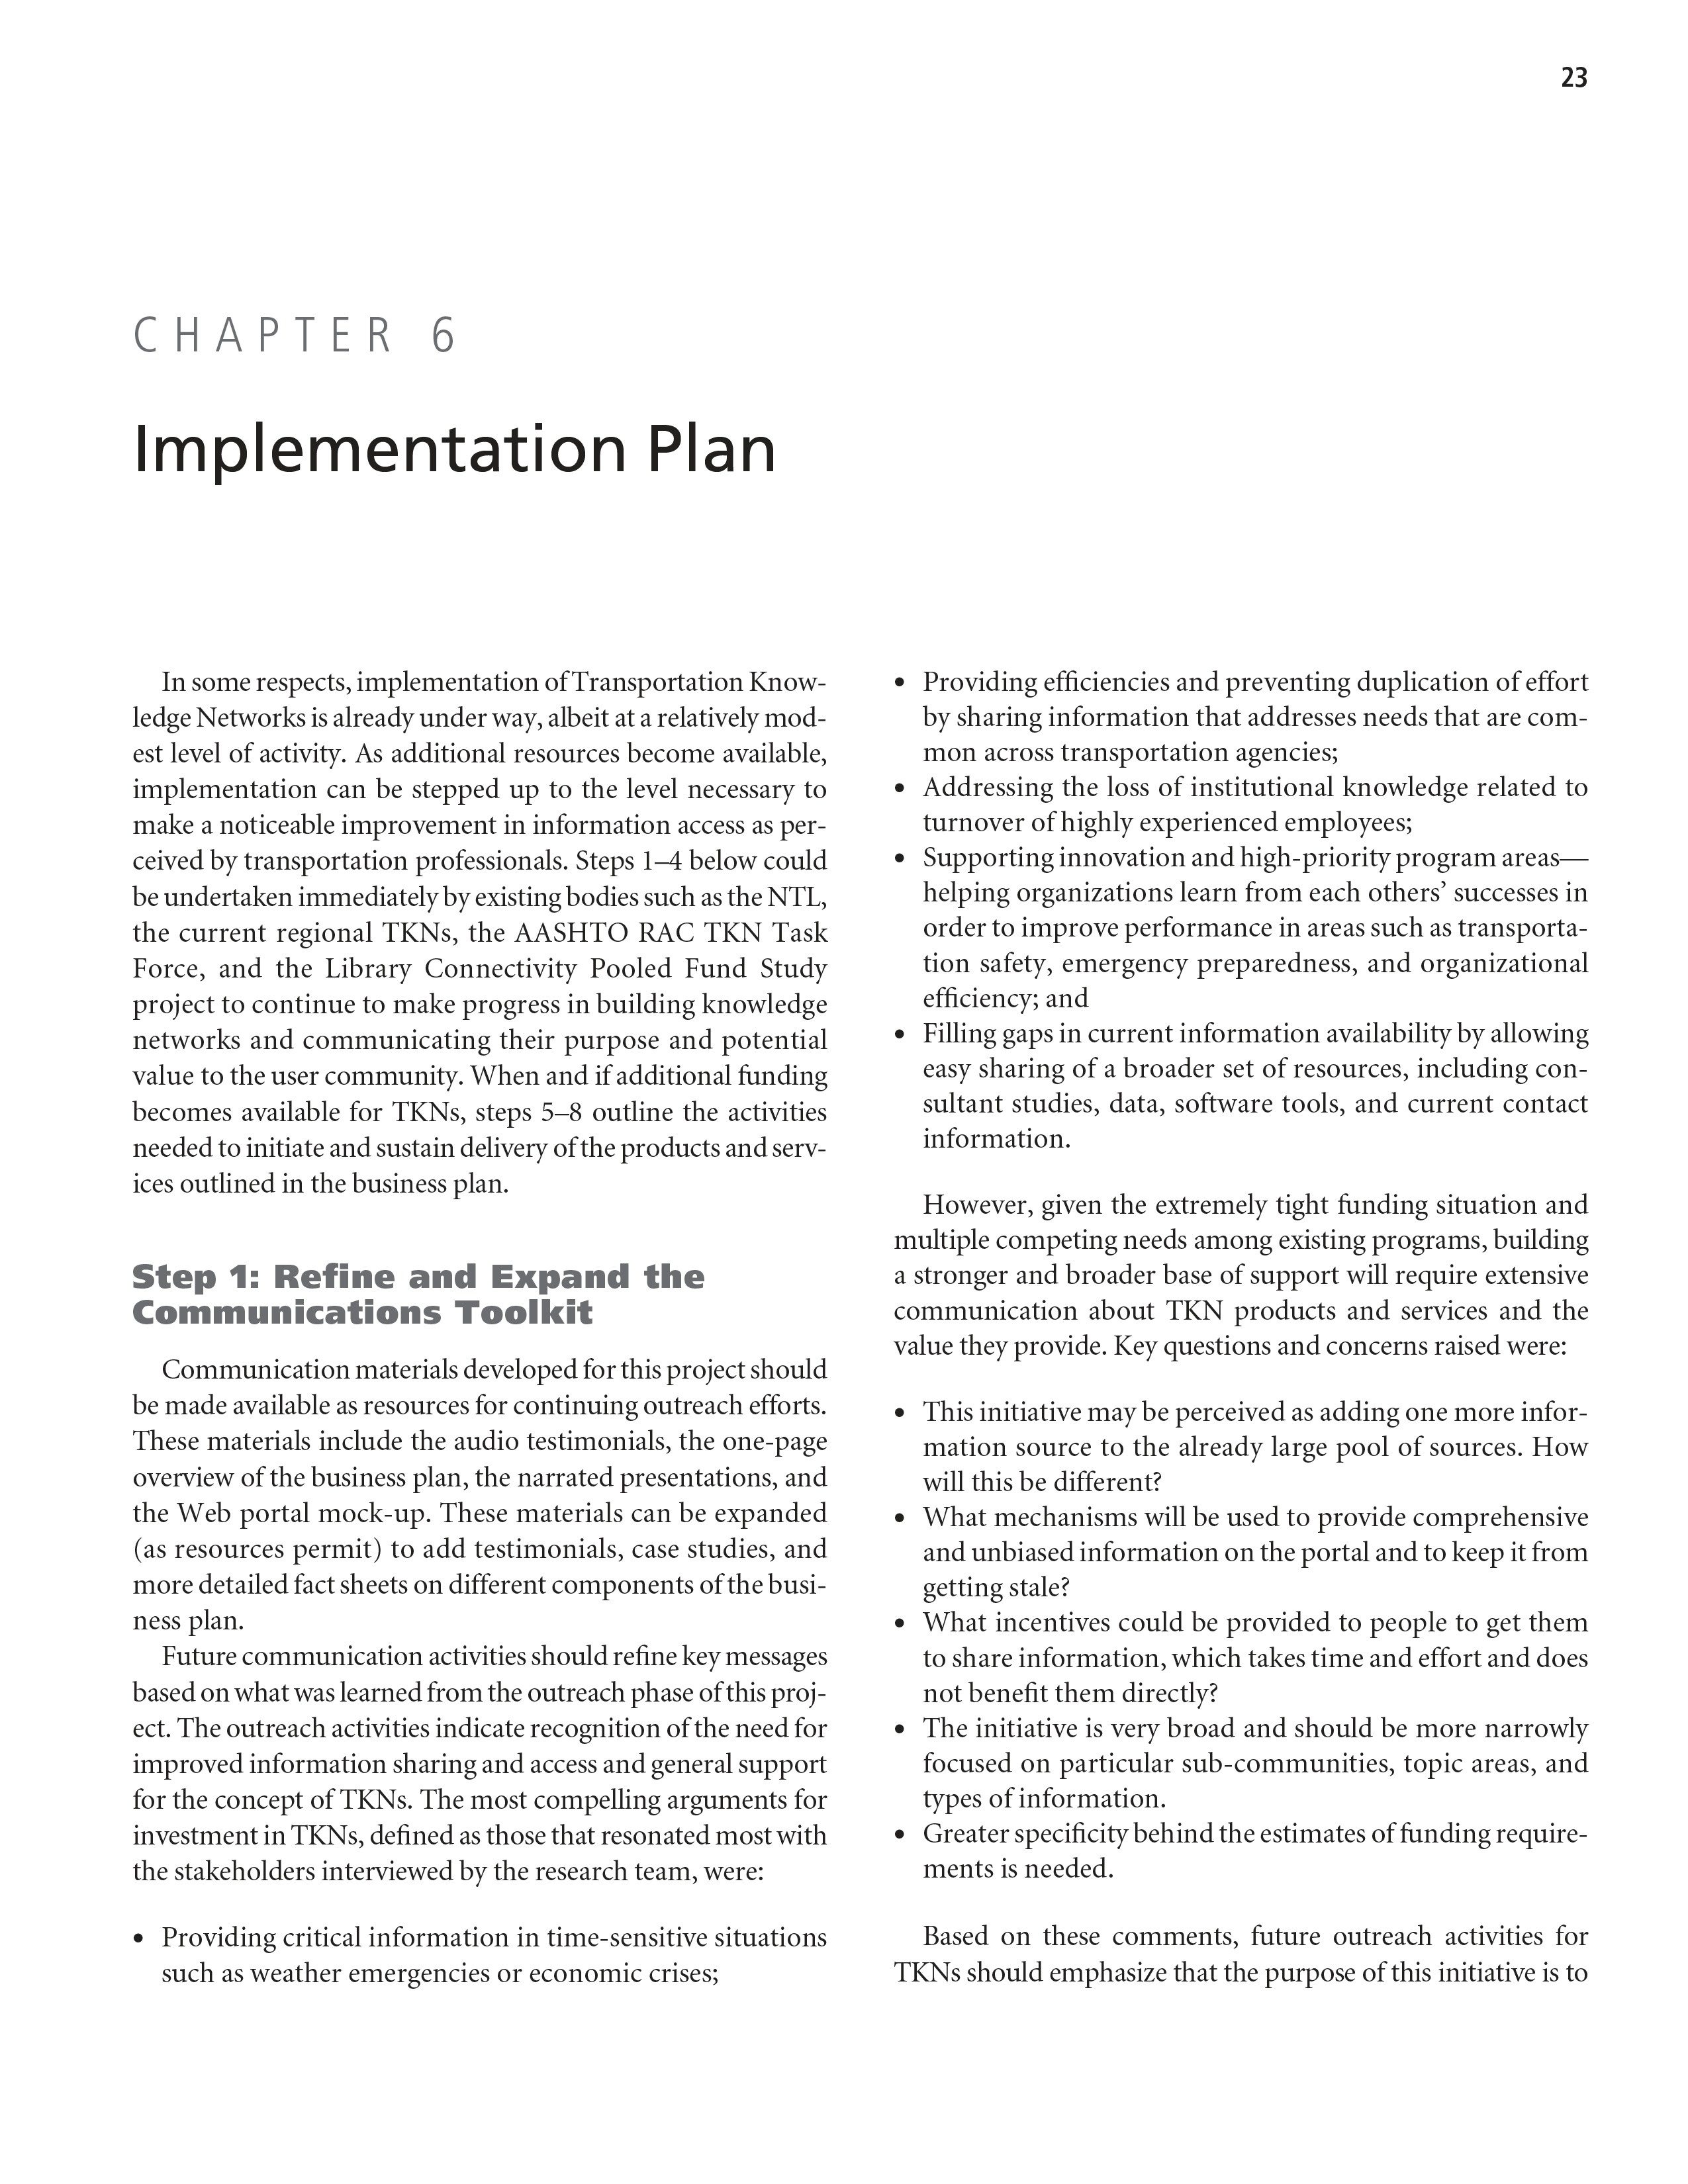list: (872, 1361, 1619, 1904), (883, 642, 1615, 1170), (126, 1904, 842, 1996)
section: (126, 1239, 746, 1335), (106, 406, 777, 489), (122, 298, 473, 367)
text: (119, 654, 823, 1216), (106, 1345, 842, 1638), (126, 1652, 837, 1904), (883, 1193, 1615, 1361), (895, 1916, 1626, 2008)
